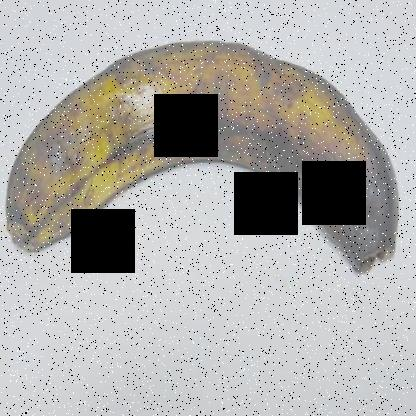overripe: (1, 27, 415, 315)
